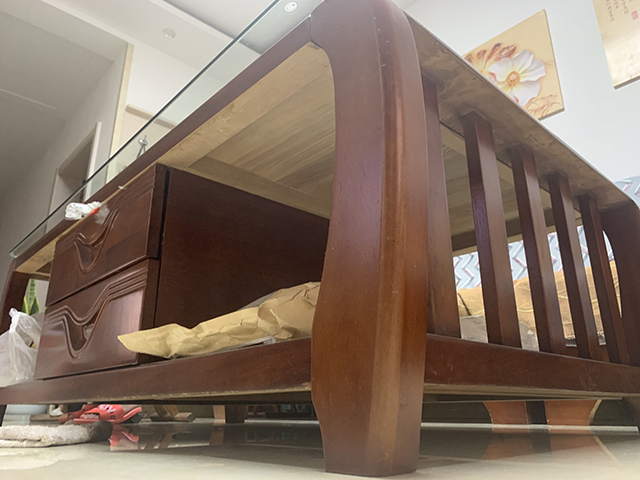slippers: (57, 402, 144, 425)
table: (1, 1, 640, 478)
